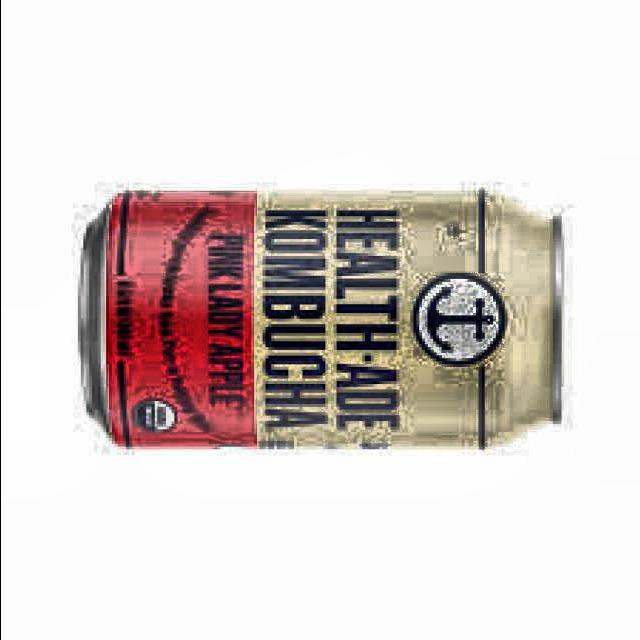Aluminum Can: (69, 190, 569, 462)
